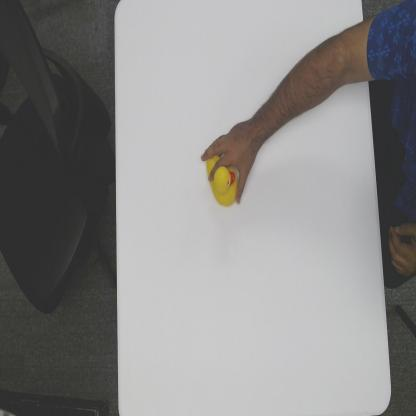Arm: (256, 20, 370, 140)
Duck: (204, 154, 238, 208)
Hand: (200, 115, 265, 204)
